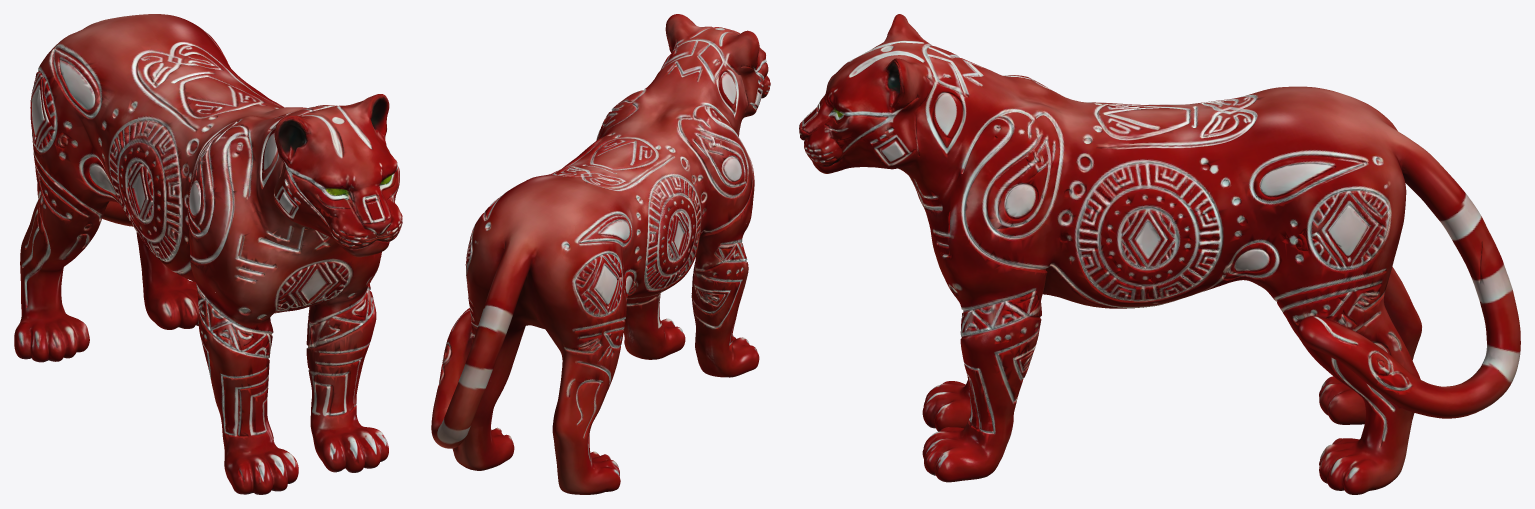
File: Red Panther.glb
The picture shows the model from 3 angles, left to right: view 1: azimuth 30°, elevation 25°; view 2: azimuth 150°, elevation 25°; view 3: azimuth 270°, elevation 25°; orthographic projection. The views are drawn at different scales.
Parts seen in each view (by area): view 1: tripo_node_7e484809-2b6a-4ccc-8a37-4eb61f6b2dd0; view 2: tripo_node_7e484809-2b6a-4ccc-8a37-4eb61f6b2dd0; view 3: tripo_node_7e484809-2b6a-4ccc-8a37-4eb61f6b2dd0.
Part boxes in pixels (box(x1,y1,x2,y2)): tripo_node_7e484809-2b6a-4ccc-8a37-4eb61f6b2dd0: box(14, 14, 402, 494); tripo_node_7e484809-2b6a-4ccc-8a37-4eb61f6b2dd0: box(431, 14, 770, 494); tripo_node_7e484809-2b6a-4ccc-8a37-4eb61f6b2dd0: box(799, 14, 1520, 494).
Size of the model in its own units: 0.3445 by 0.6098 by 0.9798.
1 material, 1 textured.
